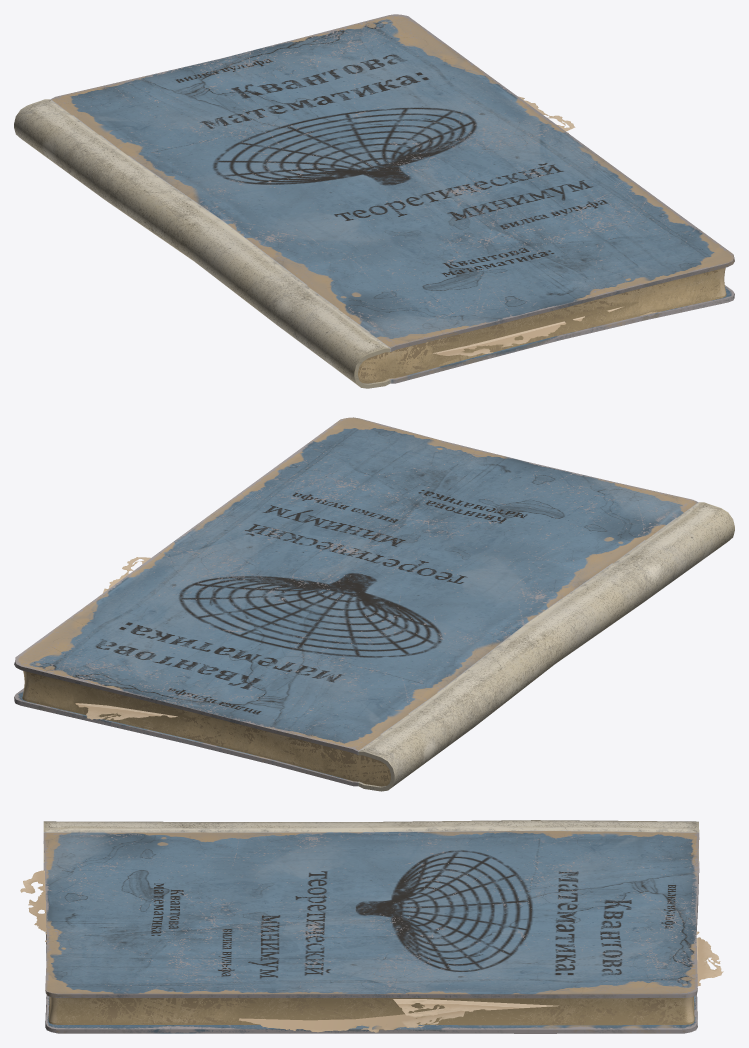
File: book.glb
3 renders of one model, top to bottom at view 1: azimuth 30°, elevation 25°; view 2: azimuth 150°, elevation 25°; view 3: azimuth 270°, elevation 25°, orthographic. The views are drawn at different scales.
Parts seen in each view (by area): view 1: Maths_Book_LP; view 2: Maths_Book_LP; view 3: Maths_Book_LP.
Boxes of the visible parts, x1,y1,x2,y2 form: Maths_Book_LP: [14, 14, 734, 388]; Maths_Book_LP: [14, 417, 734, 791]; Maths_Book_LP: [20, 820, 723, 1033].
Bounding box in the file's own units: 2.21 × 0.2197 × 3.35.
1 material, 1 textured.
